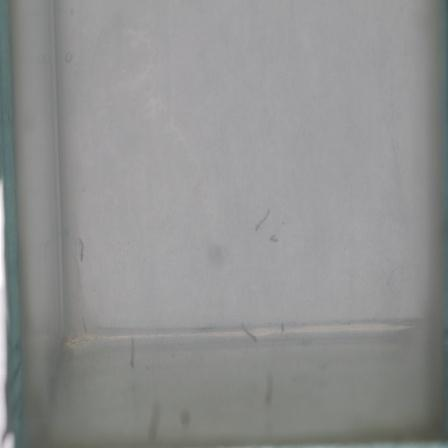Jentik-Nyamuk: (123, 333, 141, 373), (252, 206, 274, 235), (236, 318, 258, 346), (73, 237, 88, 263)
